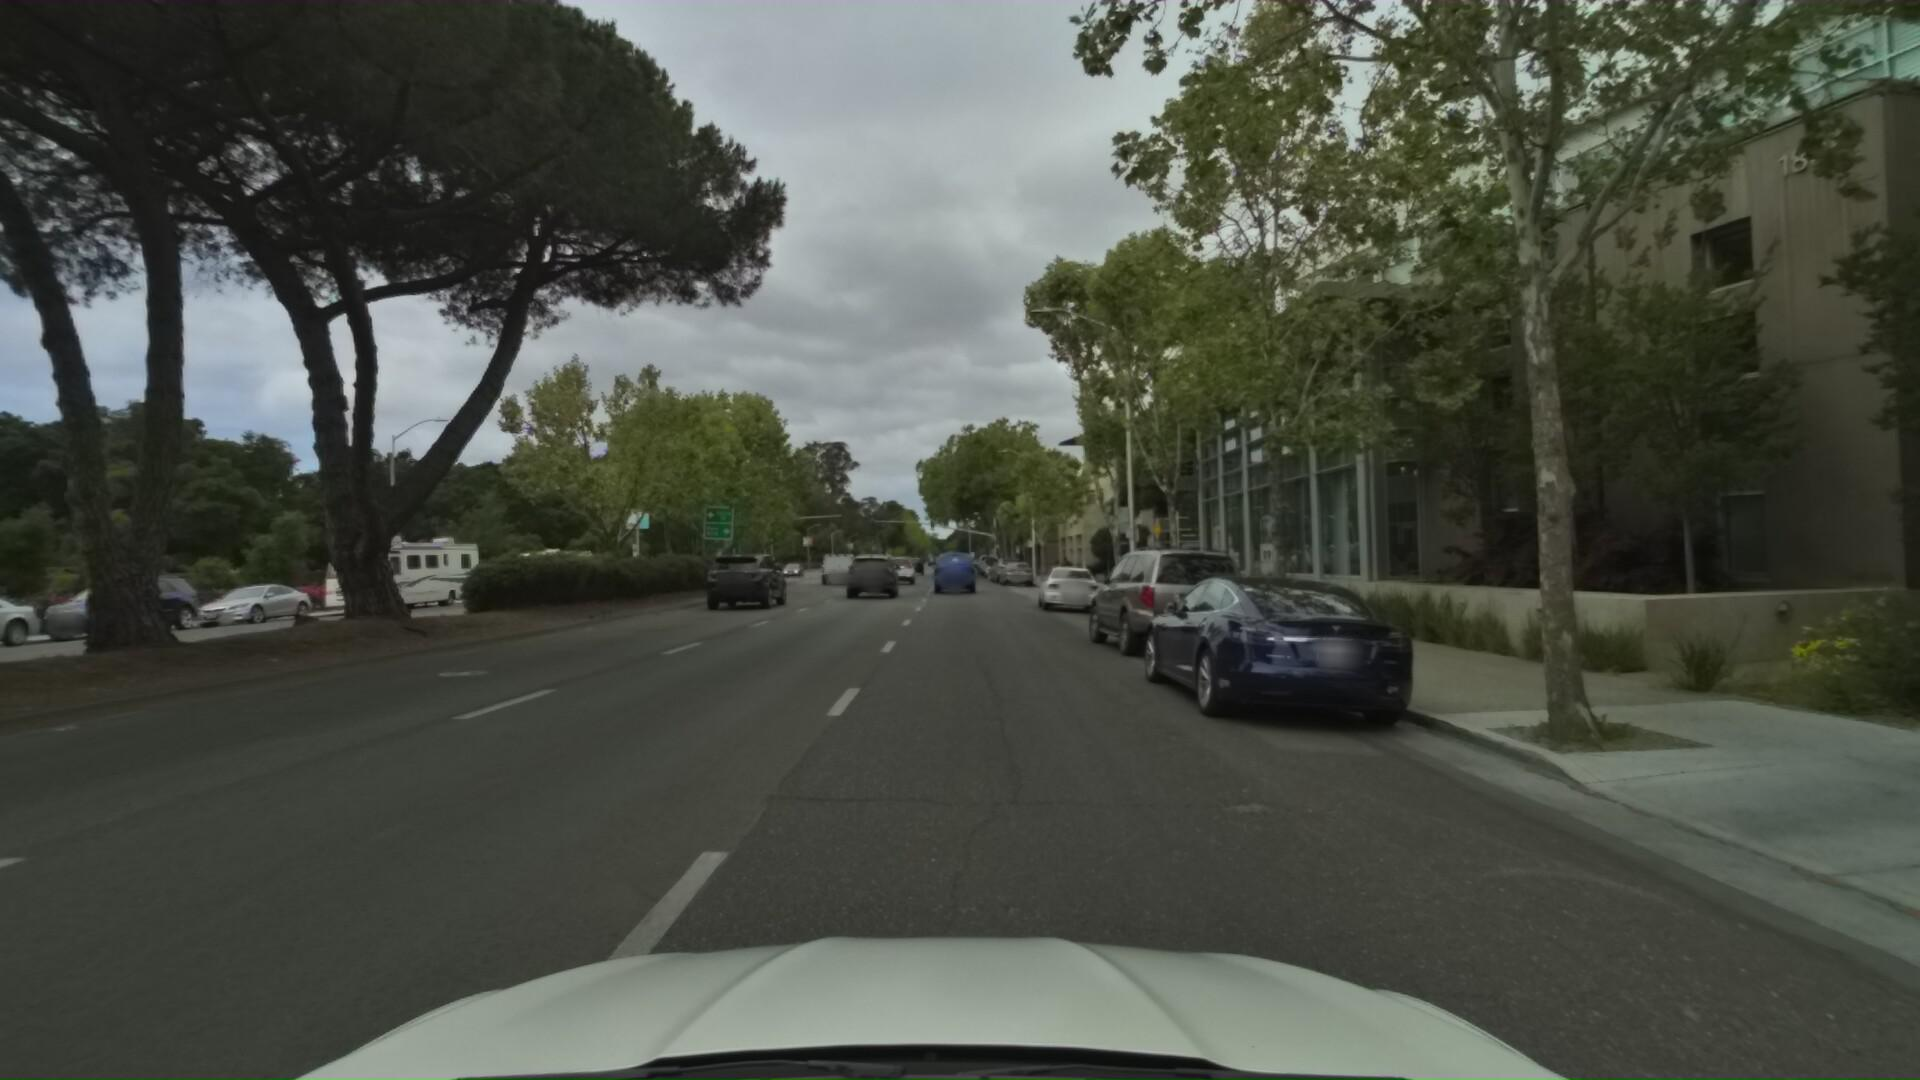bicycle: (1054, 549, 1072, 587)
car: (1126, 562, 1447, 752), (1079, 535, 1263, 670), (13, 568, 214, 640), (169, 572, 320, 625), (699, 545, 794, 615), (1034, 556, 1105, 611), (841, 549, 903, 603), (928, 543, 978, 591), (818, 547, 860, 584), (881, 547, 920, 585), (997, 550, 1035, 580), (989, 547, 1025, 576)
other_vehicle: (303, 514, 489, 615), (502, 535, 600, 591)
